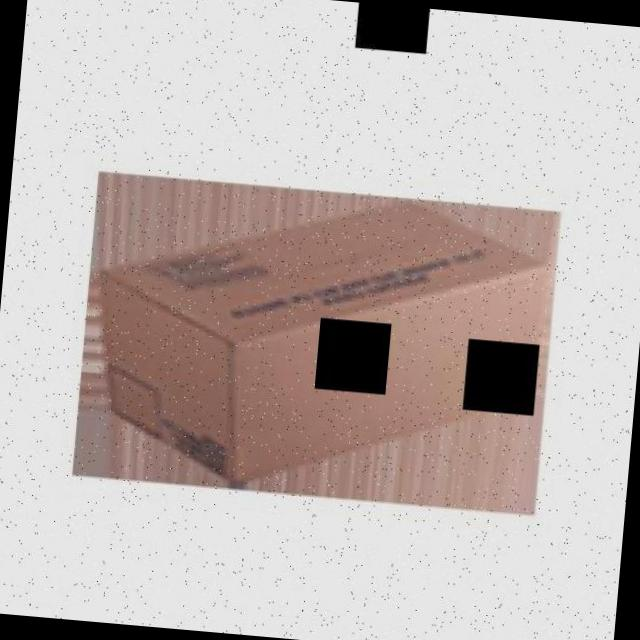box: (66, 155, 581, 546)
